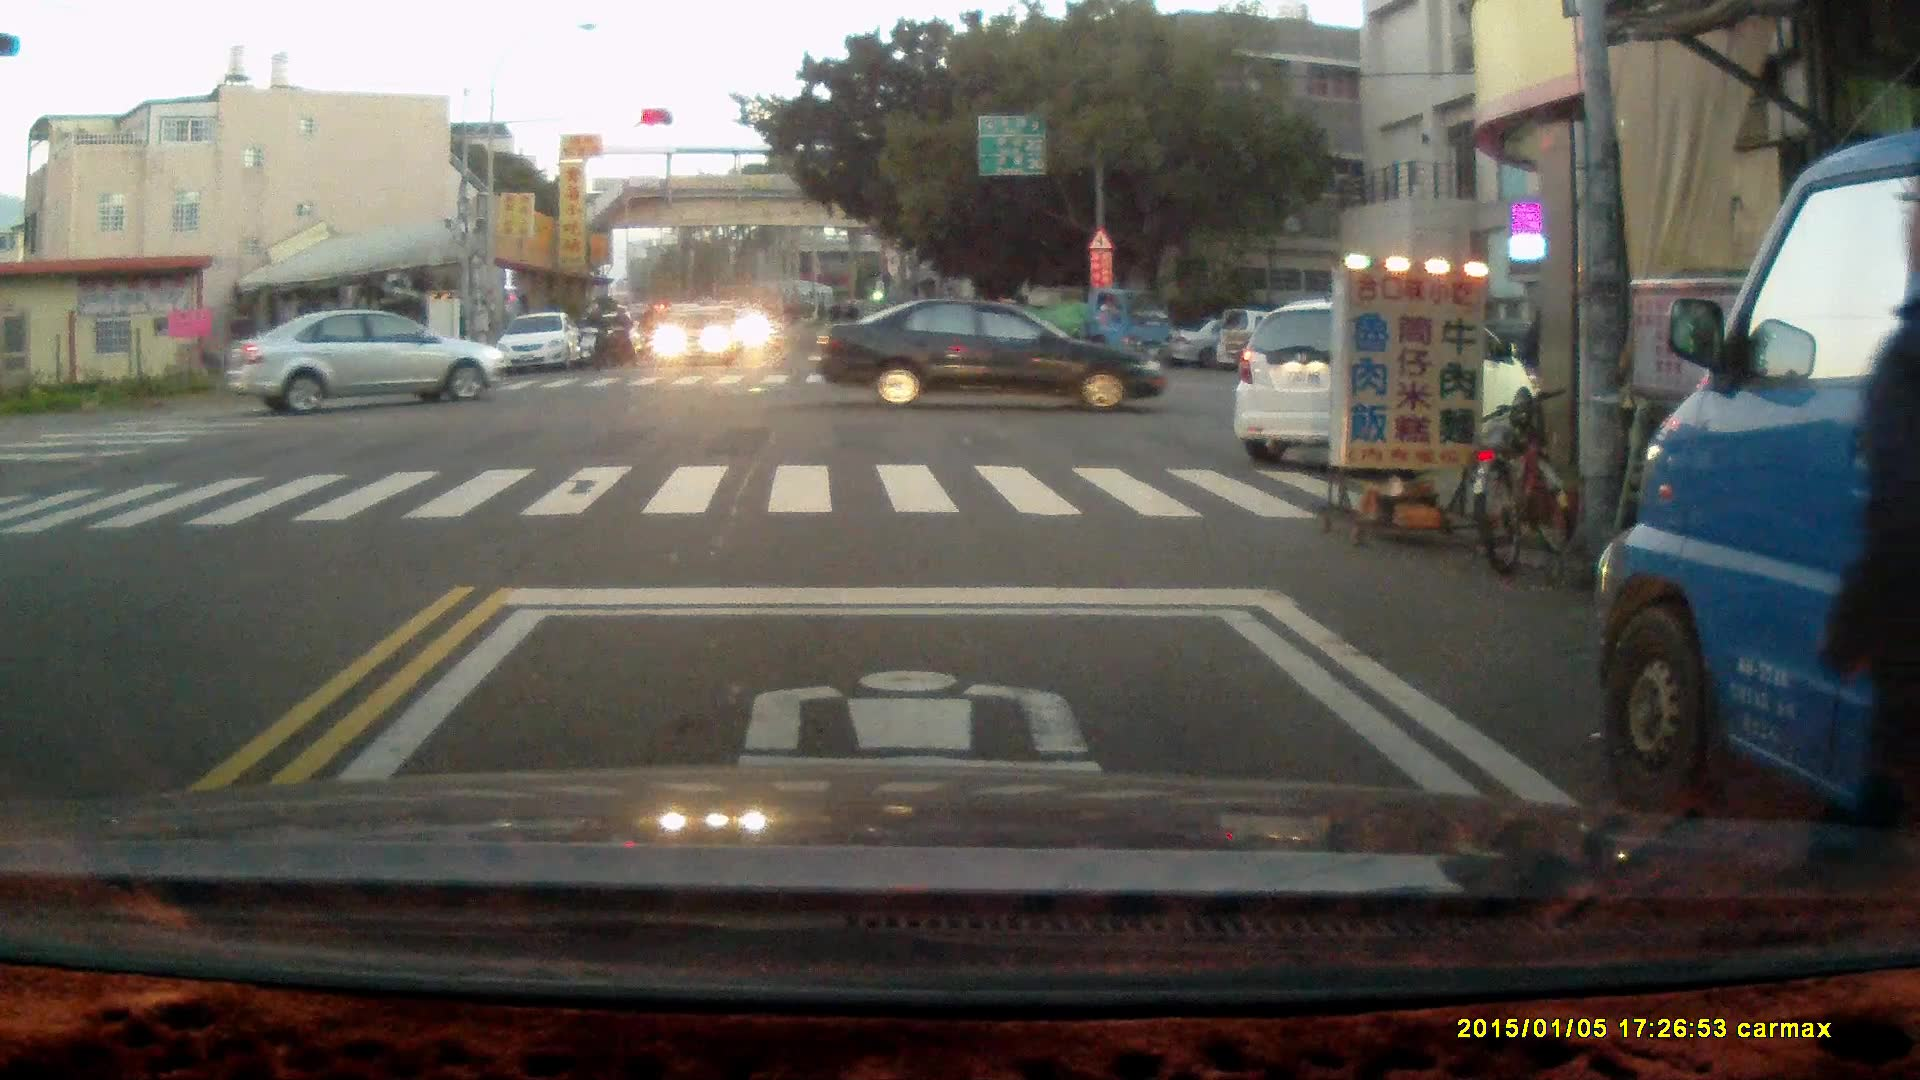rider: (576, 301, 608, 367), (603, 301, 632, 366)
vehicle: (1598, 132, 1920, 844), (1233, 296, 1533, 459), (813, 297, 1175, 412), (226, 311, 502, 412), (1002, 284, 1179, 367), (496, 313, 586, 377)
